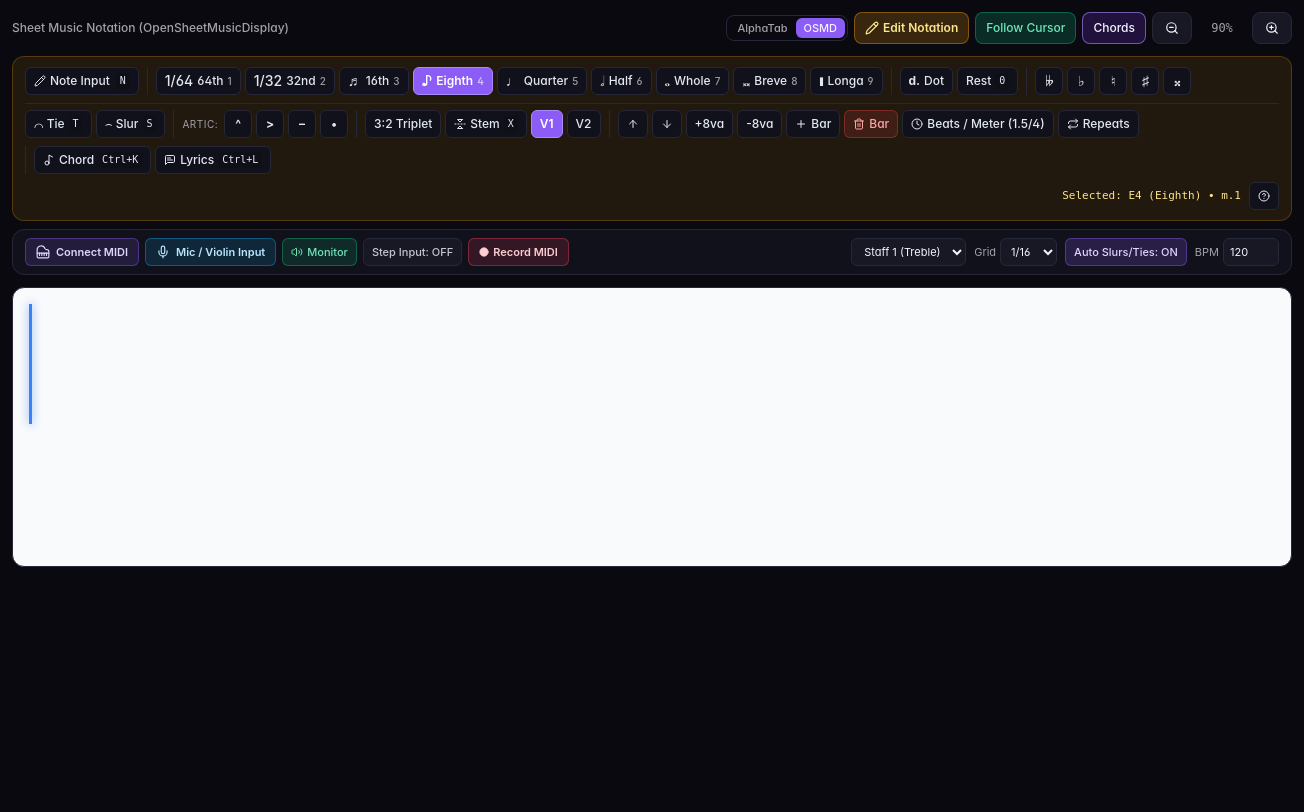
Test: Edit Notation Light-Mode Contrast & Direct Notehead Selection › auto-activates Edit Notation when clicking a notehead directly, highlights it, supports edits and Escape
This screenshot has width=1304, height=812.
Earlier steps of the test are not shown.
Expected: the element with test id "notation-edit-toolbar" is shown, [12,56,1292,221]
Expected: the text with test id "notation-edit-readout" shows "Selected: E4 (Eighth)", [1062,189,1241,202]
Click the button named "Pitch up" at (632,124), box [618,110,648,138]
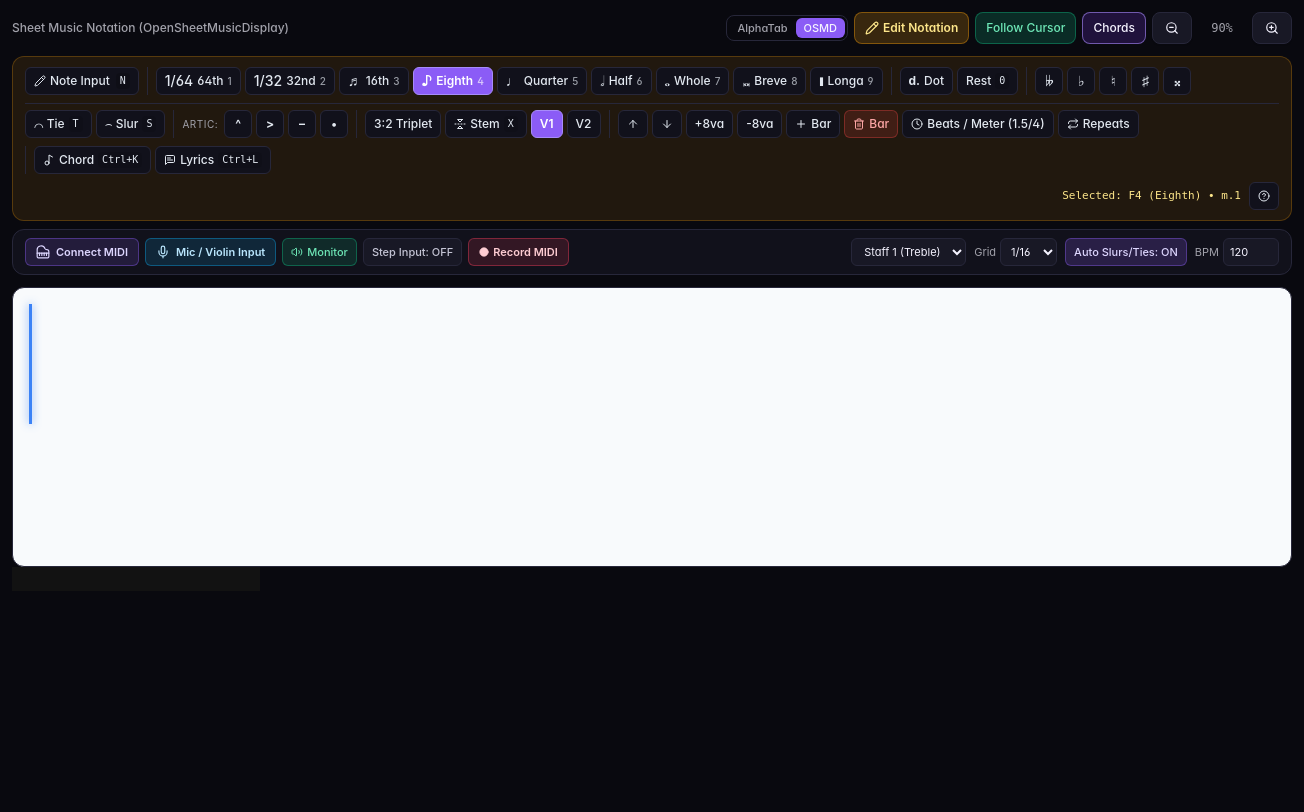
Press Escape in the field, box [12,567,260,591]
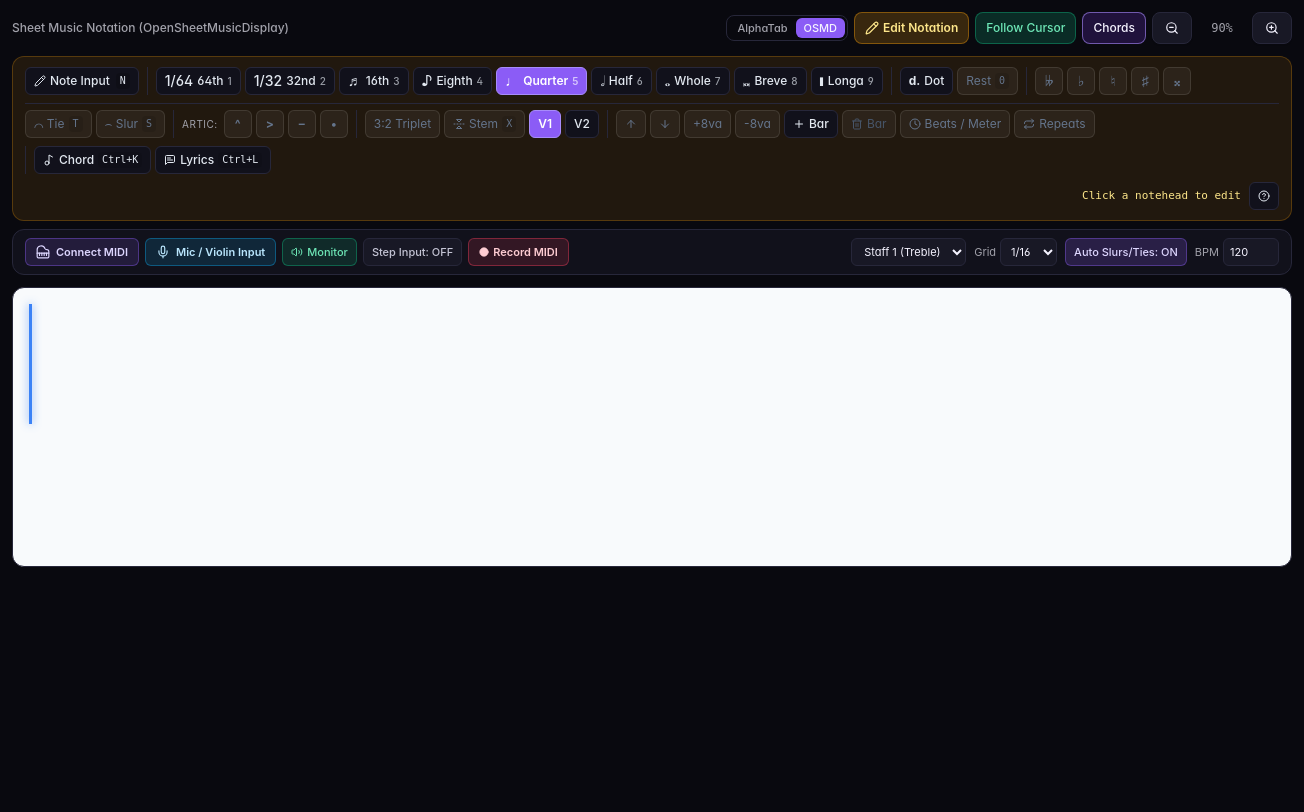
Now the text with test id "notation-edit-readout" reads "Click a notehead to edit", box [1082,189,1241,202]
